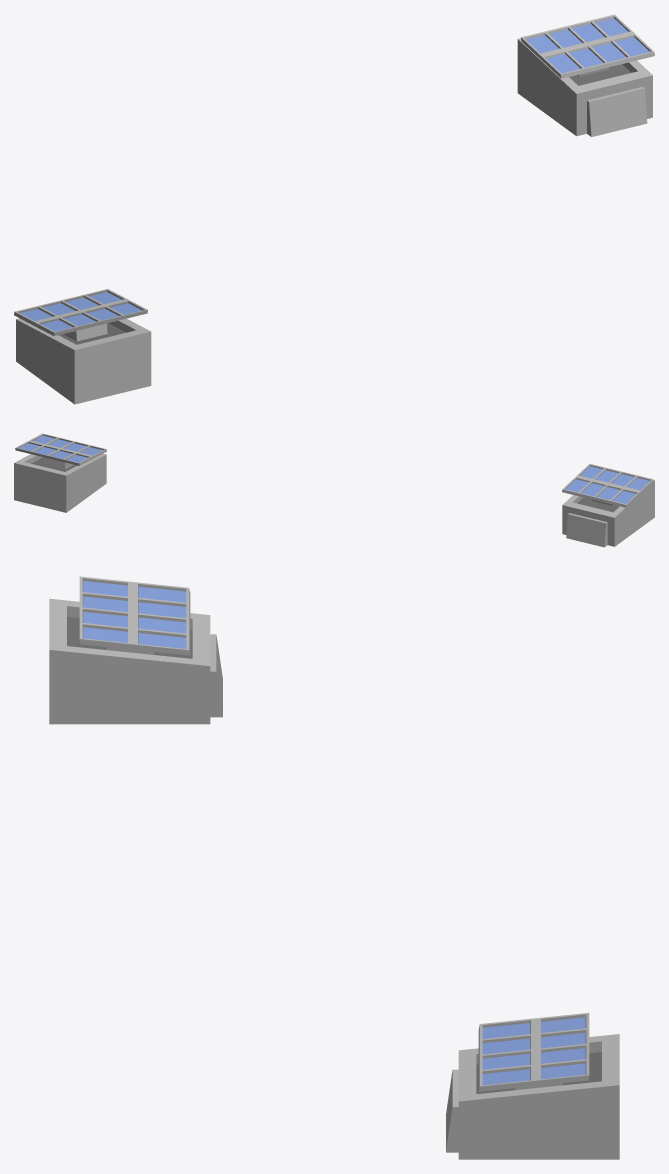
File: generators.glb
3 renders of one model, top to bottom at view 1: azimuth 30°, elevation 25°; view 2: azimuth 150°, elevation 25°; view 3: azimuth 270°, elevation 25°, orthographic. The views are drawn at different scales.
Parts seen in each view (by area): view 1: Генераторы; view 2: Генераторы; view 3: Генераторы.
Part boxes in pixels (<box>): Генераторы: <box>14,14,654,404</box>; Генераторы: <box>14,433,654,547</box>; Генераторы: <box>49,576,619,1159</box>.
Bounding box in the file's own units: 73.05 × 6.18 × 35.29.
